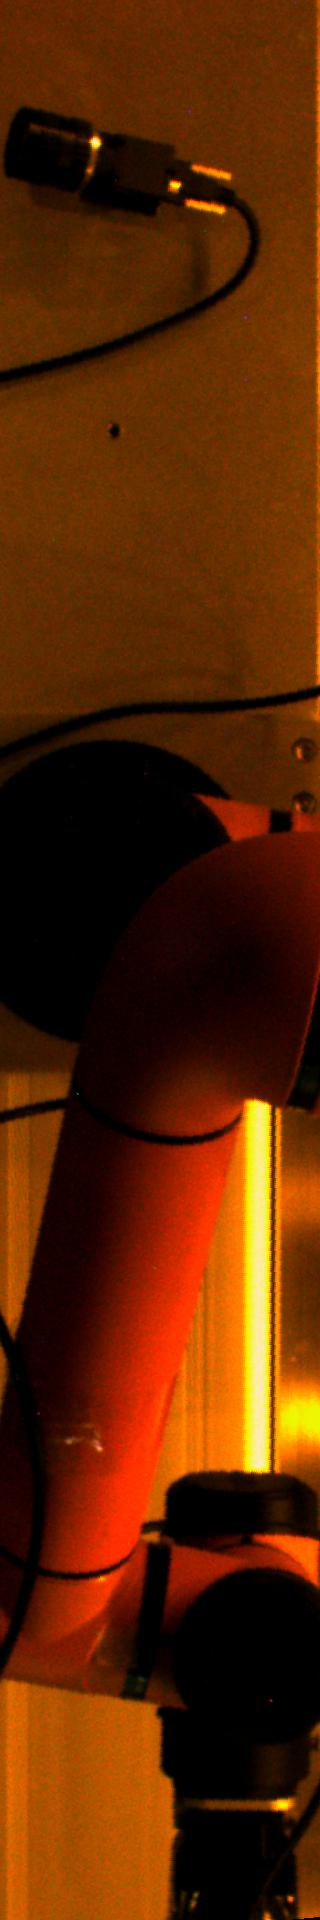keyPoint_2: (99, 418, 129, 447)
